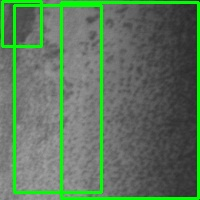patches: (2, 1, 41, 46)
pitted_surface: (61, 2, 198, 198), (15, 5, 101, 192)
